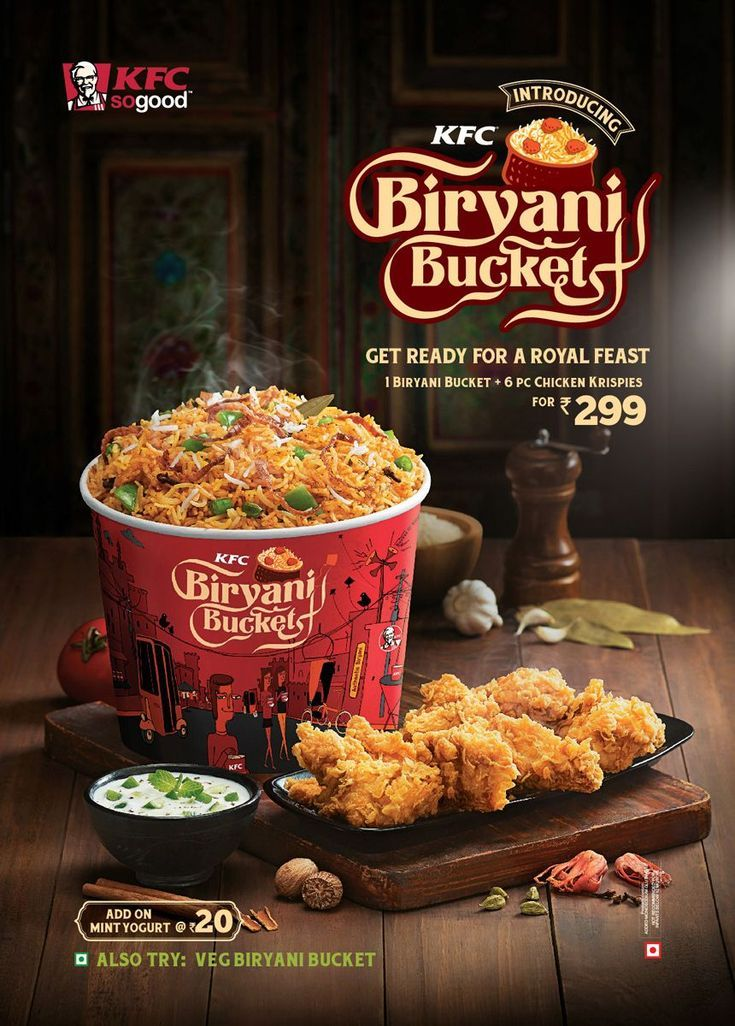Headline: (342, 66, 682, 340)
Price: (523, 386, 666, 438)
Product: (46, 356, 693, 890)
logo: (56, 44, 202, 119)
